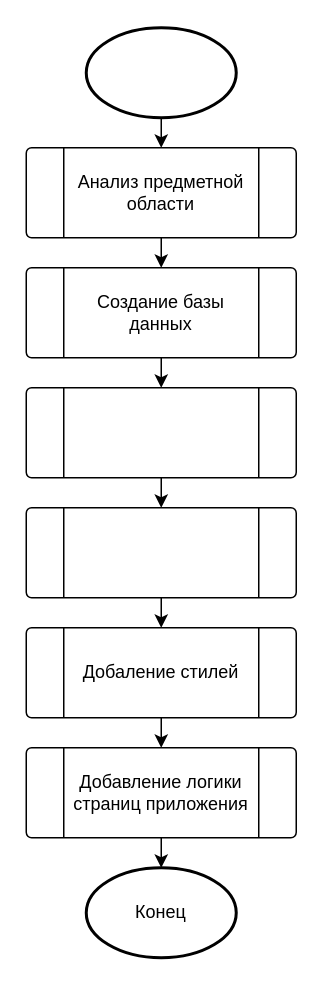
This 323x984 diagram has some shape labels left out. Here are the shapes that lost their labels. From the top down, the centre of each, then its label:
At point (160, 72): "Начало".
At point (160, 432): "Добавление базы данных в приложение".
At point (160, 552): "Создание страниц приложения".
